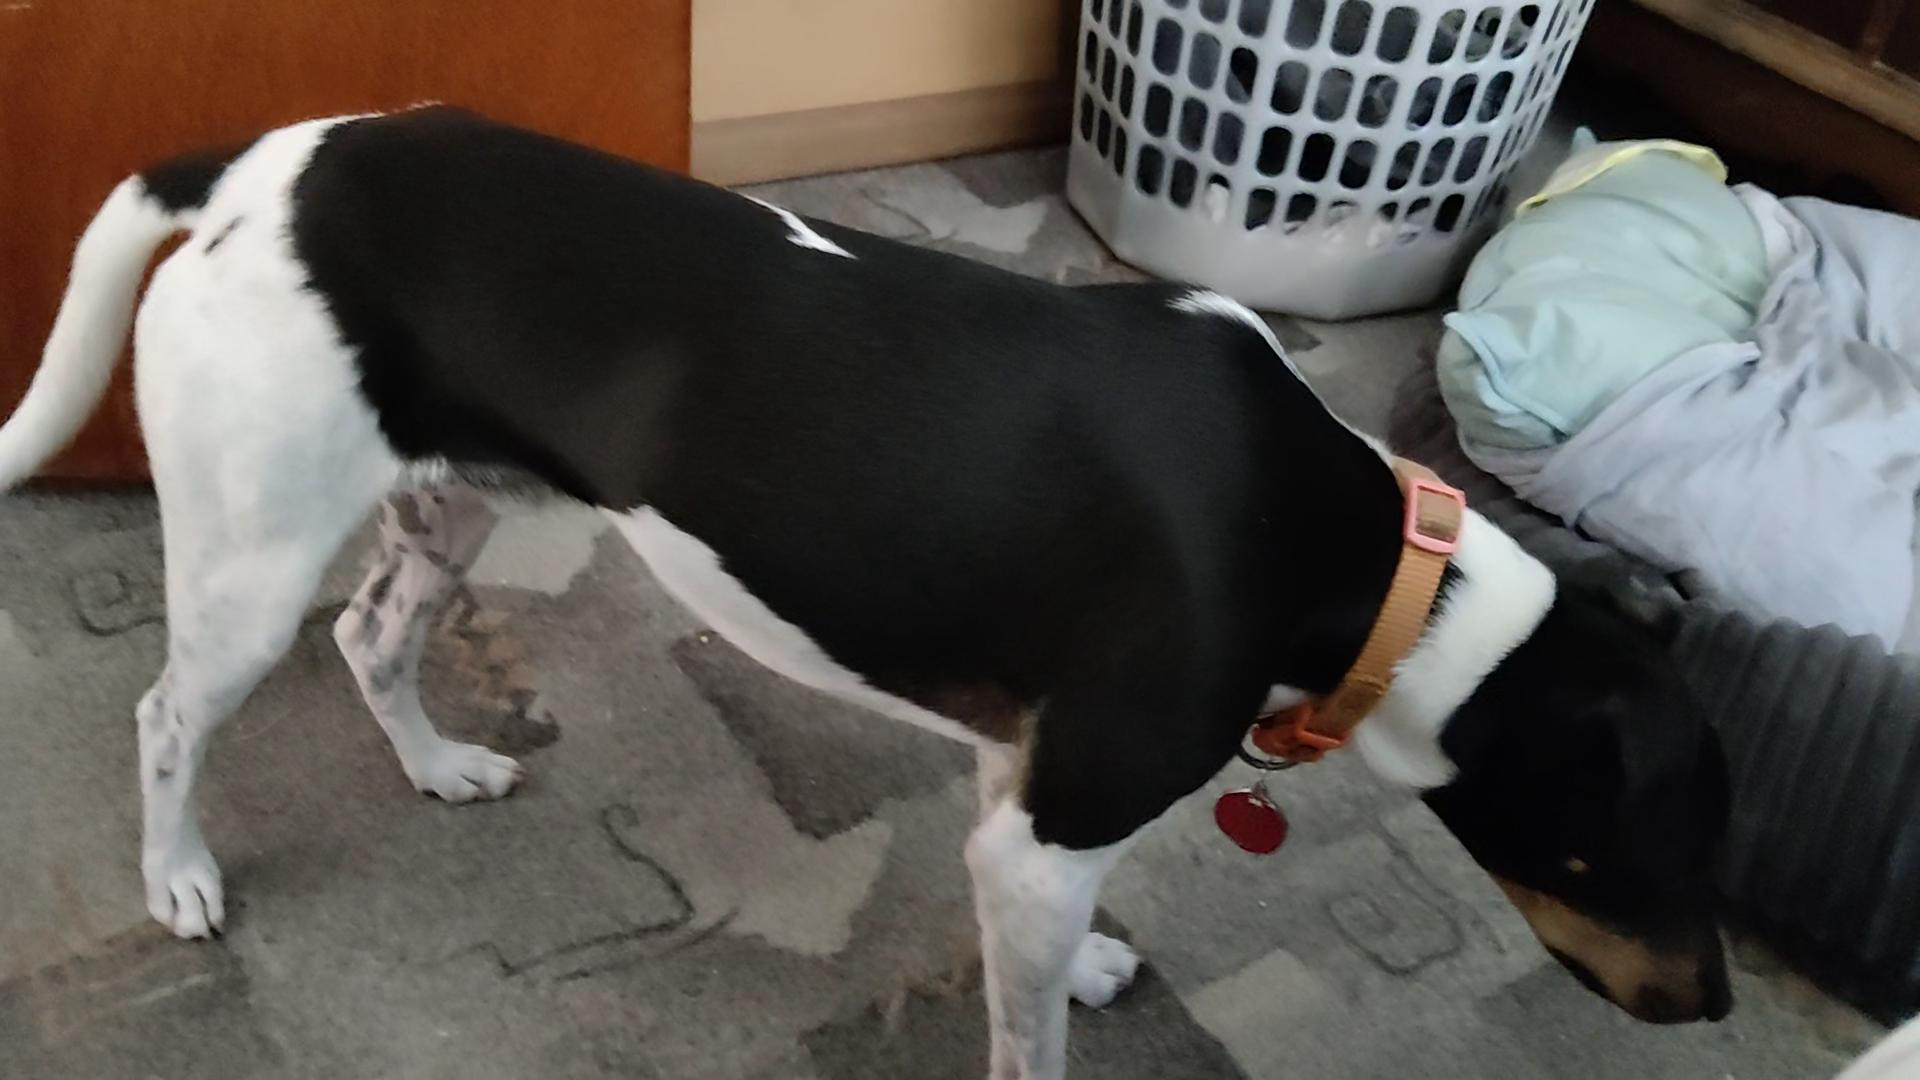Dog: (0, 95, 1755, 1079)
